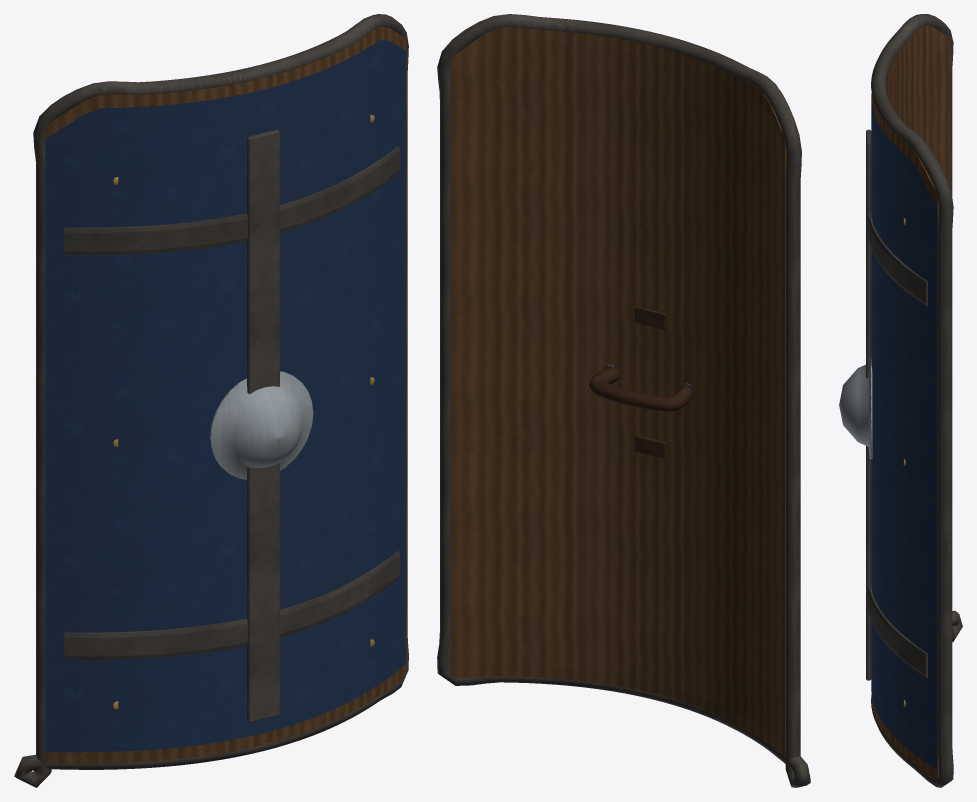
File: tower-shield.glb
3 views of the same model, side by side, from view 1: azimuth 30°, elevation 25°; view 2: azimuth 150°, elevation 25°; view 3: azimuth 270°, elevation 25° (orthographic). The views are drawn at different scales.
Visible parts, largest first — view 1: ceramic / ceramic composite panel, iron / hammer-scaled wrought iron, wood / oiled hardwood, steel / forged blade steel; view 2: wood / oiled hardwood, iron / hammer-scaled wrought iron, leather / oiled leather wrap; view 3: ceramic / ceramic composite panel, iron / hammer-scaled wrought iron, wood / oiled hardwood, steel / forged blade steel.
Part boxes in pixels (x1,y1,x2,y2): ceramic / ceramic composite panel: (45,40,405,752); iron / hammer-scaled wrought iron: (14,14,408,787); wood / oiled hardwood: (45,26,405,763); steel / forged blade steel: (210,371,313,479); wood / oiled hardwood: (450,27,786,757); iron / hammer-scaled wrought iron: (437,14,810,787); leather / oiled leather wrap: (589,306,692,458); ceramic / ceramic composite panel: (871,100,937,769); iron / hammer-scaled wrought iron: (866,14,962,787); wood / oiled hardwood: (871,25,949,779); steel / forged blade steel: (839,359,872,458).
Bounding box in the file's own units: 0.6113 × 1.06 × 0.1841.
6 materials, 6 textured.
